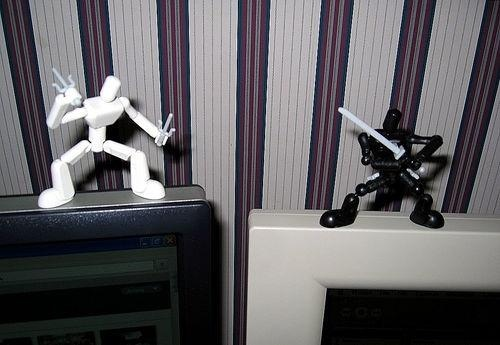tvmonitor: (244, 208, 500, 345), (1, 188, 220, 345)
